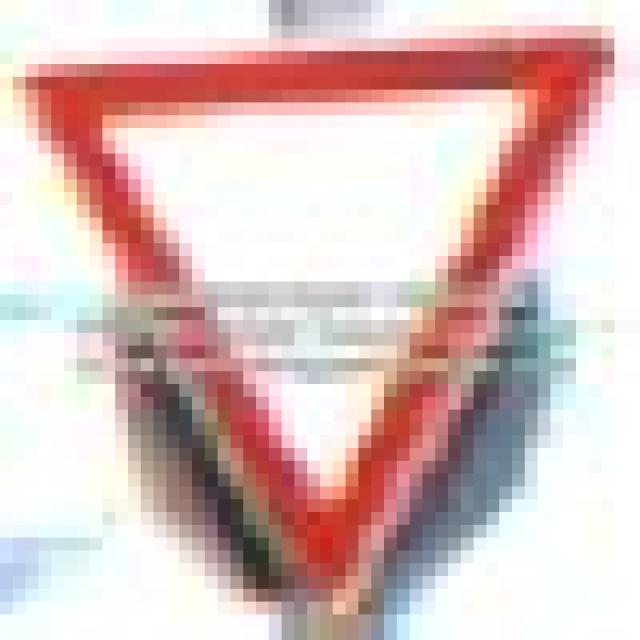GIVE_WAY: (12, 0, 614, 614)
